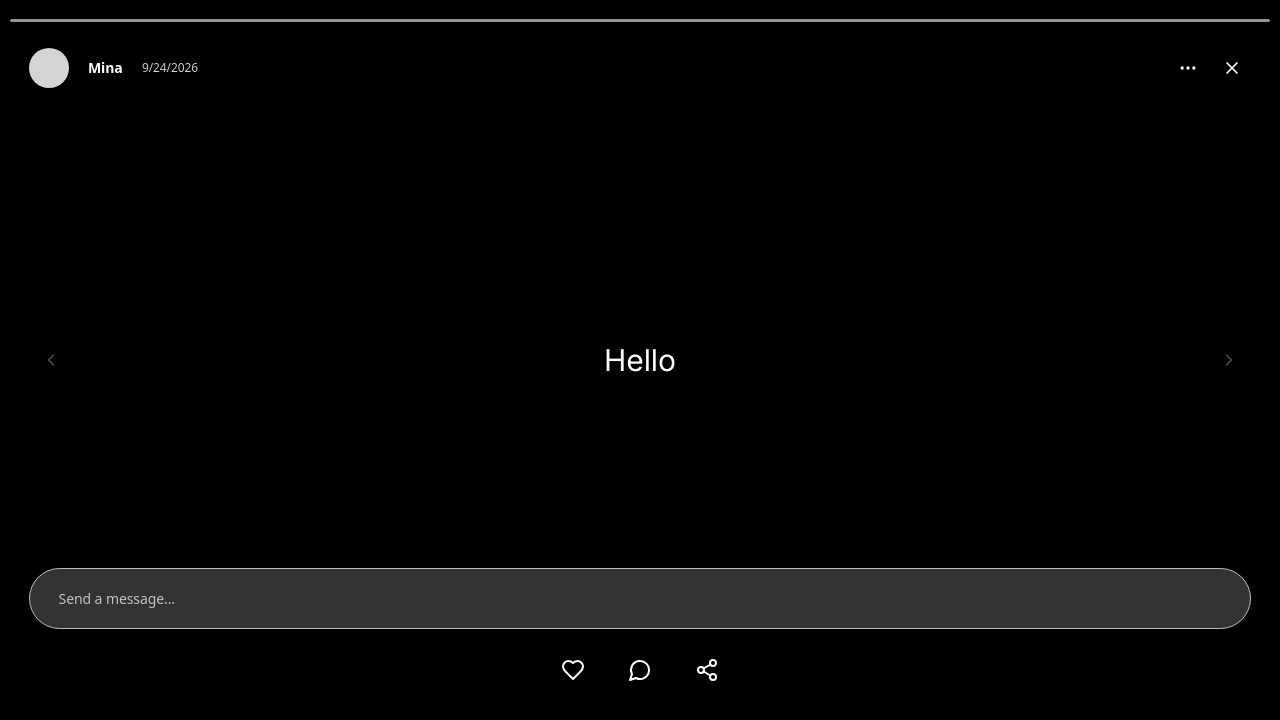
report and block (moments#10) › offers report and block to a viewer who is not the author, never to the author
Click the button with test id "story-menu-toggle" at (1188, 68), box [1168,48,1207,88]
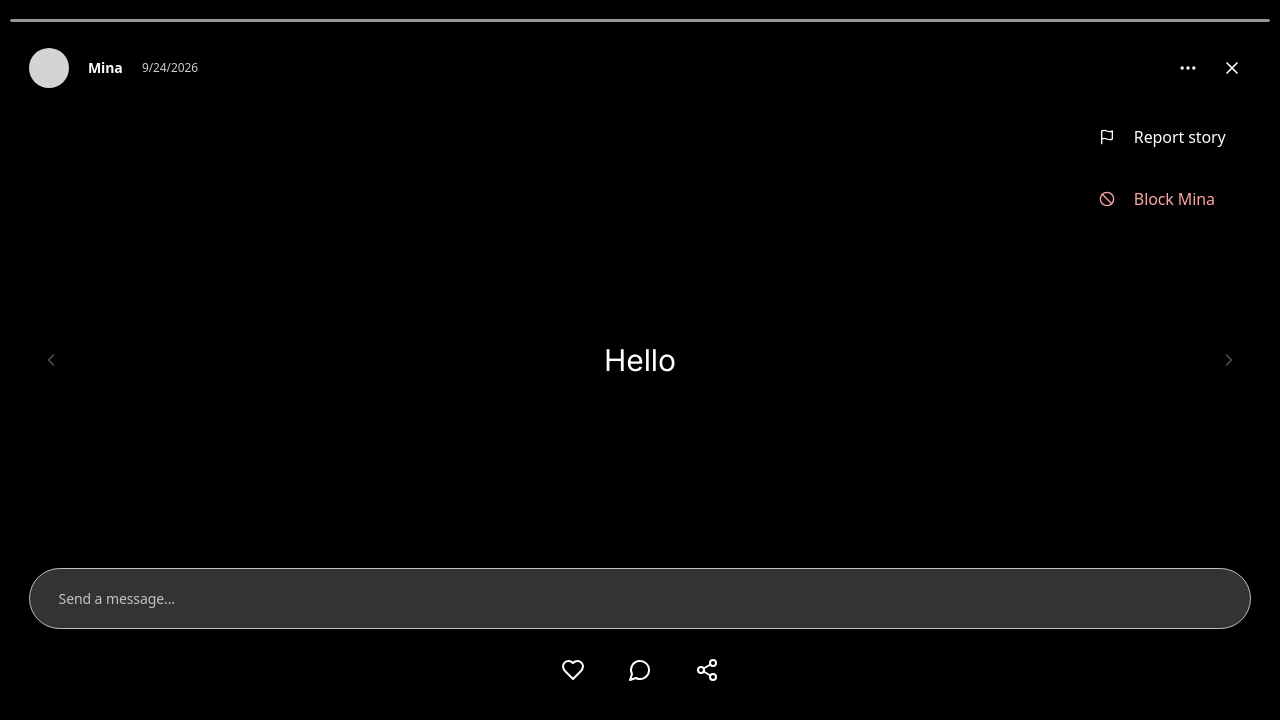
expect the button with test id "story-report" is shown: met, box [1070,106,1254,168]
expect the button with test id "story-block" is shown: met, box [1070,168,1254,230]
